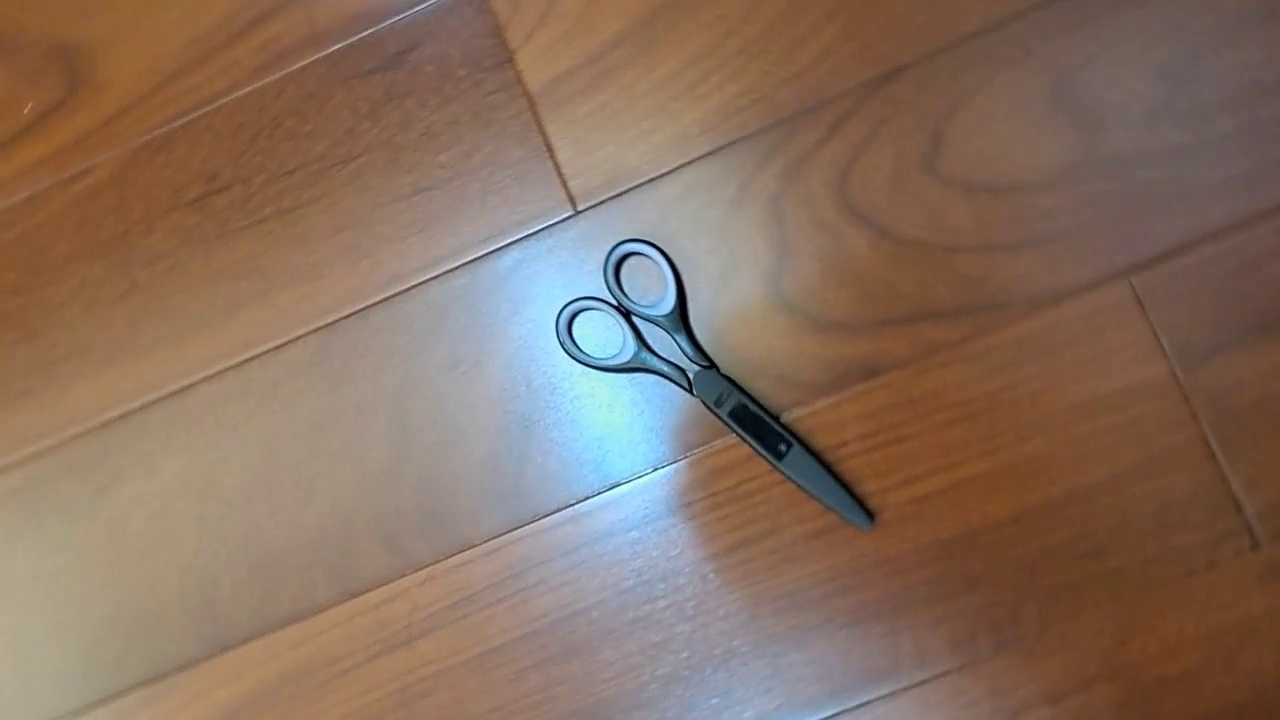scissors: (555, 237, 877, 534)
